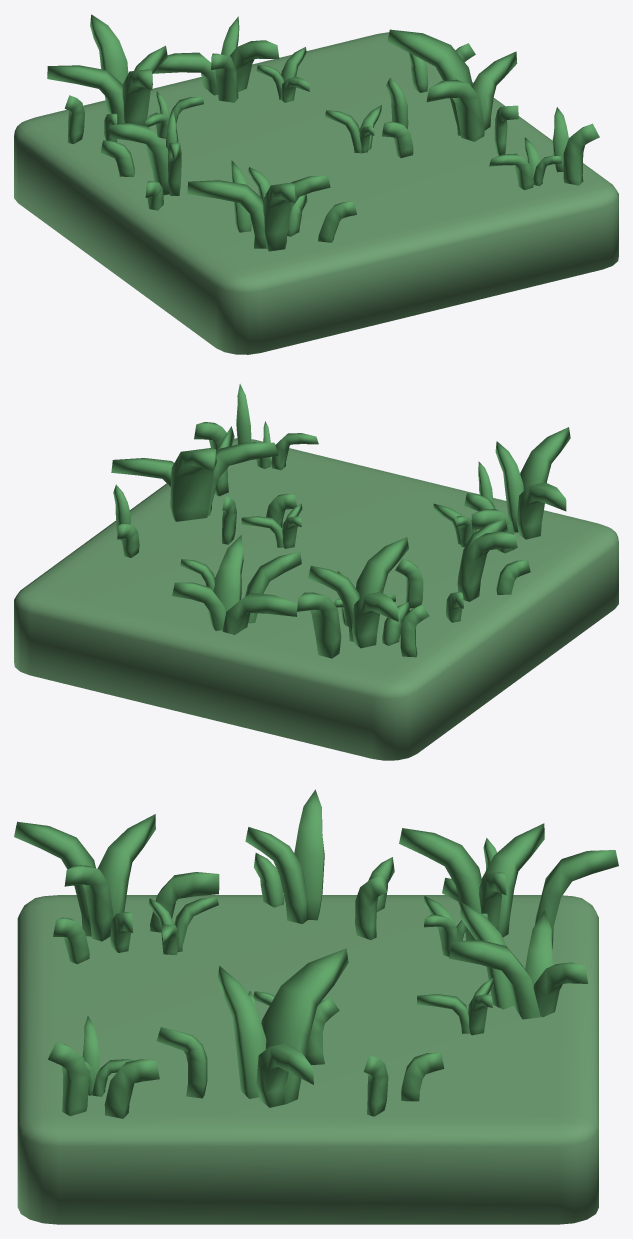
Rendered from GrassTile.fbx.
3 views of the same model, one above another, from view 1: azimuth 30°, elevation 25°; view 2: azimuth 150°, elevation 25°; view 3: azimuth 270°, elevation 25° (orthographic). The views are drawn at different scales.
Visible parts, largest first — view 1: Grassbig, grass1.001, grass5.001, grass2.001, grass15.002, grass7.001, grass13.001, grass14.001, grass17.002, grass3.001, grass15.003, grass9.001 (+18 smaller); view 2: Grassbig, grass1.001, grass13.001, grass14.001, grass5.001, grass15.002, grass15.003, grass17.002, grass7.001, grass17.003, grass2.001, grass16.002 (+17 smaller); view 3: Grassbig, grass1.001, grass2.001, grass17.002, grass17.003, grass13.001, grass12.001, grass5.001, grass14.001, grass7.001, grass3.001, grass15.002 (+22 smaller).
Part boxes in pixels (x1,y1,x2,y2): Grassbig: (14,32,618,354); grass1.001: (387,29,472,135); grass5.001: (187,180,266,248); grass2.001: (426,79,484,141); grass15.002: (47,65,124,124); grass7.001: (263,183,295,251); grass13.001: (109,122,169,195); grass14.001: (90,14,128,113); grass17.002: (122,69,152,125); grass3.001: (471,51,517,130); grass15.003: (153,52,217,95); grass9.001: (563,123,599,185); Grassbig: (14,438,618,760); grass1.001: (170,448,216,521); grass13.001: (457,531,517,601); grass14.001: (297,592,341,658); grass5.001: (516,482,566,539); grass15.002: (352,591,398,648); grass15.003: (222,593,296,634); grass17.002: (355,537,408,597); grass7.001: (520,427,570,490); grass17.003: (213,535,243,611); grass2.001: (208,442,278,515); grass16.002: (308,566,360,641); Grassbig: (17,895,598,1224); grass1.001: (261,948,348,1104); grass2.001: (217,966,266,1098); grass17.002: (399,828,482,940); grass17.003: (449,940,540,1019); grass13.001: (294,789,324,920); grass12.001: (245,827,308,923); grass5.001: (97,814,155,917); grass14.001: (535,850,618,949); grass7.001: (14,821,95,936); grass3.001: (256,1043,313,1107); grass15.002: (482,823,544,937).
Bounding box in the file's own units: 1.02 × 0.3949 × 1.04.
